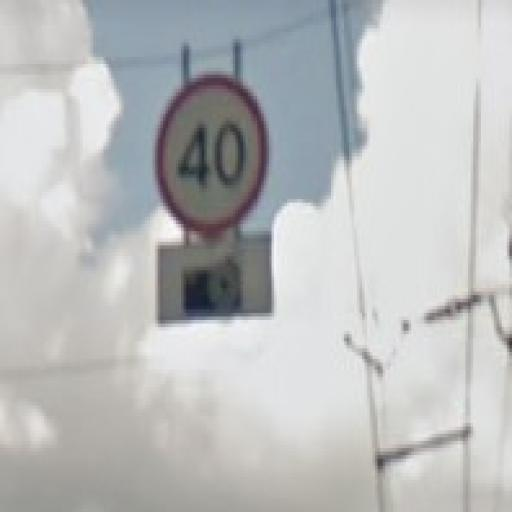traffic_sign: (156, 72, 270, 236)
